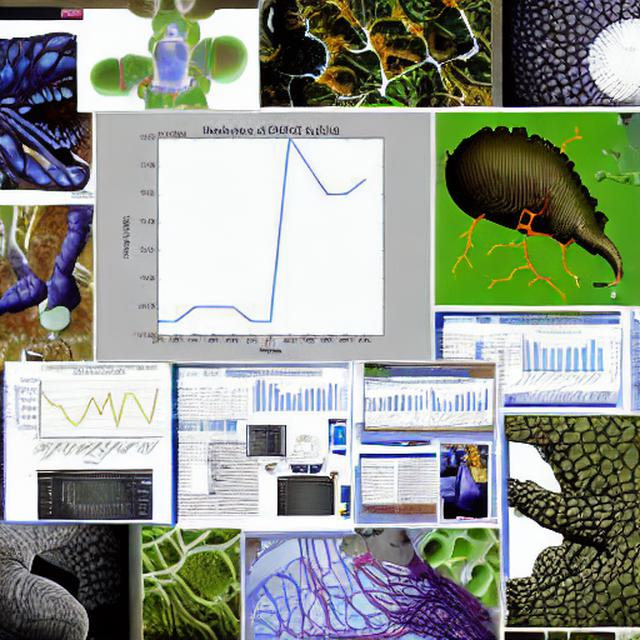Graph: (102, 113, 431, 360), (11, 362, 165, 468), (511, 329, 606, 387), (61, 473, 129, 520), (421, 381, 490, 422), (281, 484, 334, 516)
